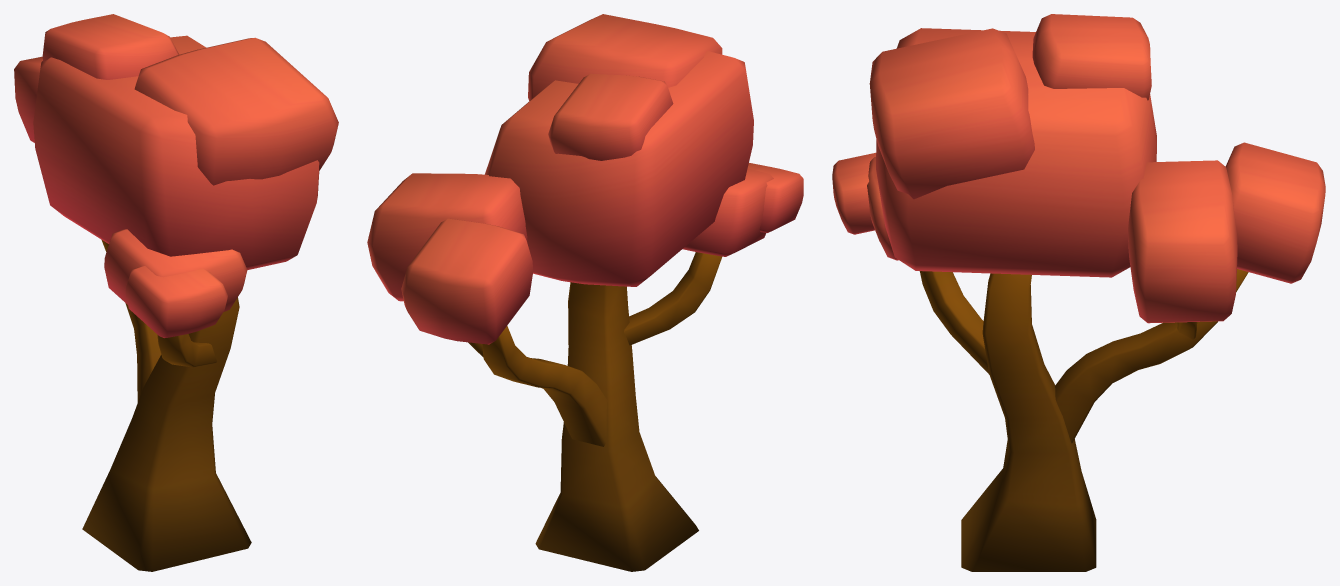
File: Tree_3_2.obj
3 views of the same model, side by side, from view 1: azimuth 30°, elevation 25°; view 2: azimuth 150°, elevation 25°; view 3: azimuth 270°, elevation 25° (orthographic). The views are drawn at different scales.
Visible parts, largest first — view 1: Tree_3_2; view 2: Tree_3_2; view 3: Tree_3_2.
Boxes of the visible parts, bbox=[...] form: Tree_3_2: bbox=[14, 14, 338, 571]; Tree_3_2: bbox=[367, 14, 803, 571]; Tree_3_2: bbox=[832, 14, 1325, 571].
Size of the model in its own units: 2.41 by 4.13 by 3.68.
